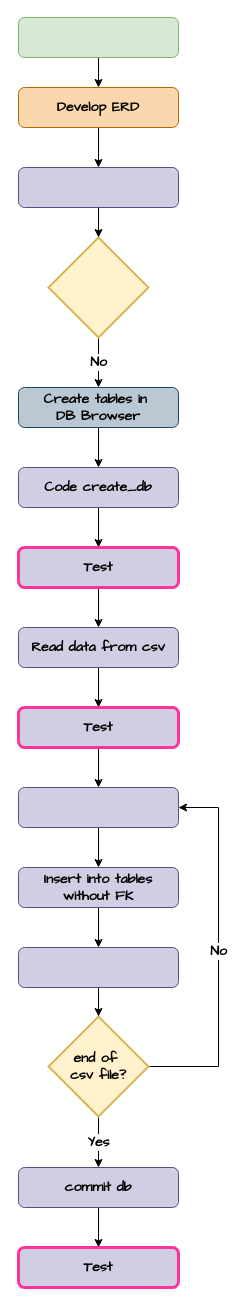
Some shapes in this 244 by 1306 pixel diagram are drawn without their labels. Each missing label, with the box of its shape:
Analyse data file: (18, 16, 178, 58)
Code datastore: (18, 166, 178, 208)
does DB exist?: (47, 236, 149, 338)
Insert into tables with existing FK: (18, 946, 178, 988)
Read next row of csv: (18, 786, 178, 828)
